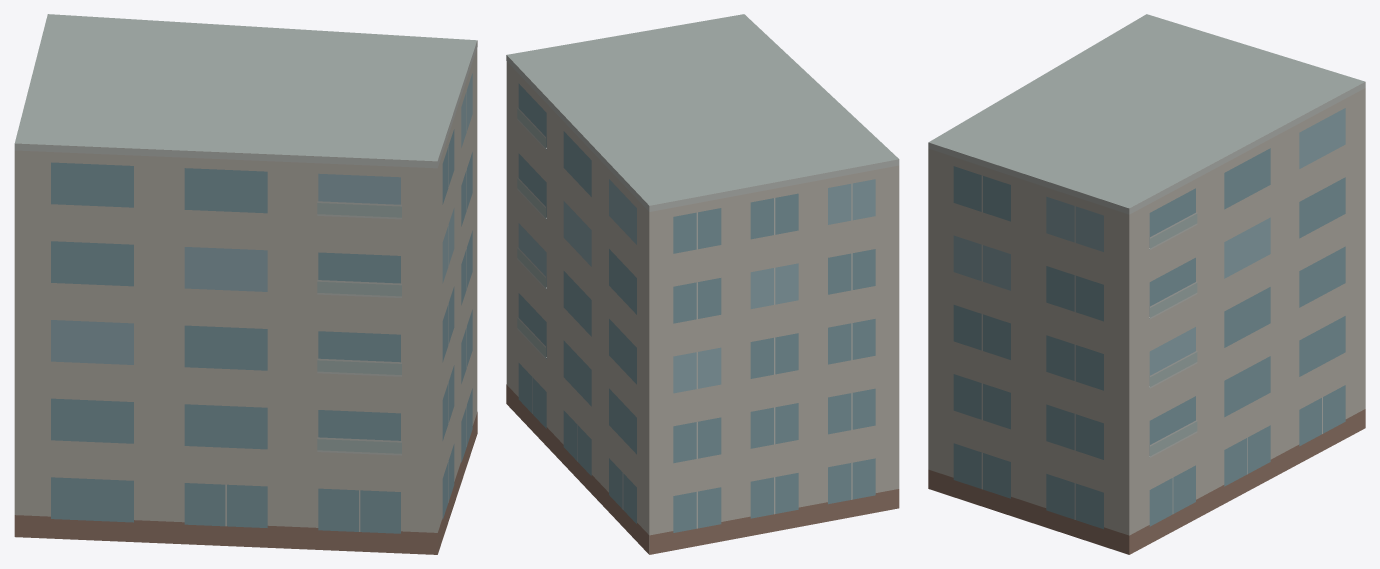
File: survey-upis-32879335.glb
3 views of the same model, side by side, from view 1: azimuth 30°, elevation 25°; view 2: azimuth 150°, elevation 25°; view 3: azimuth 270°, elevation 25° (orthographic). The views are drawn at different scales.
Parts seen in each view (by area): view 1: survey-upis-32879335.tmp; view 2: survey-upis-32879335.tmp; view 3: survey-upis-32879335.tmp.
Part boxes in pixels (x1=…): survey-upis-32879335.tmp: x1=14, y1=14, x2=477, y2=554; survey-upis-32879335.tmp: x1=506, y1=14, x2=899, y2=554; survey-upis-32879335.tmp: x1=928, y1=14, x2=1365, y2=554.
Size of the model in its own units: 16.51 by 13.7 by 15.68.
